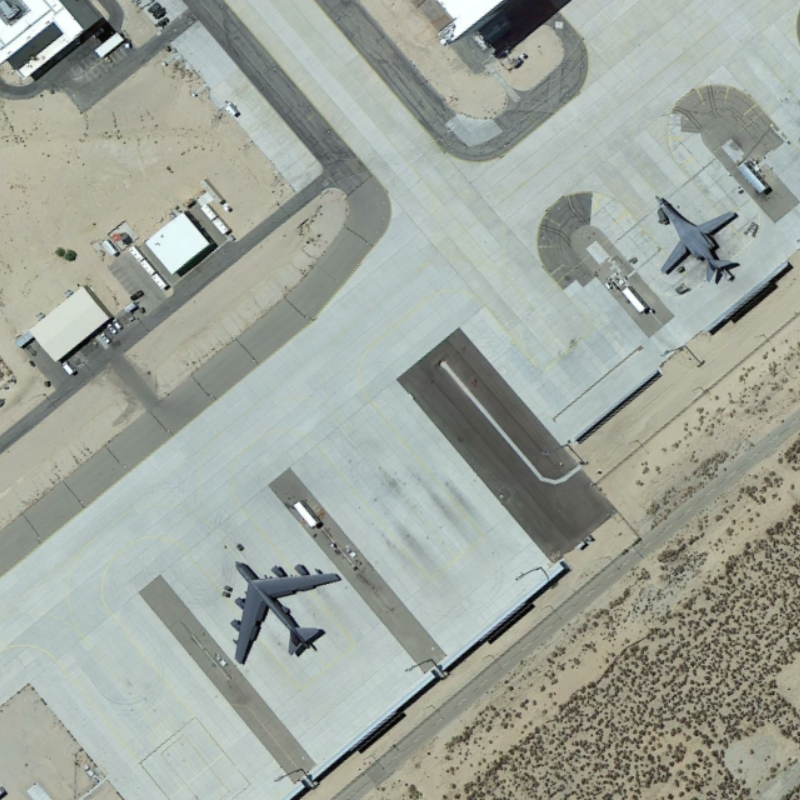A10: (644, 186, 745, 287)
A8: (221, 546, 345, 671)
